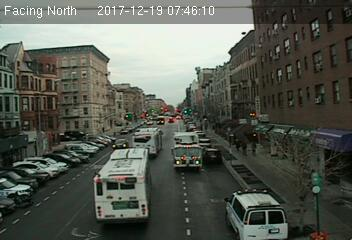bus: (92, 148, 153, 223)
car: (203, 147, 221, 163)
police: (223, 187, 290, 240)
truck: (172, 131, 203, 171), (133, 128, 163, 153)
